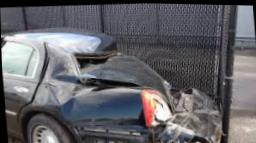Bumper: (142, 89, 221, 143)
Dickey: (69, 50, 186, 115)
Fender: (27, 42, 140, 123)
Light: (139, 87, 172, 127)
